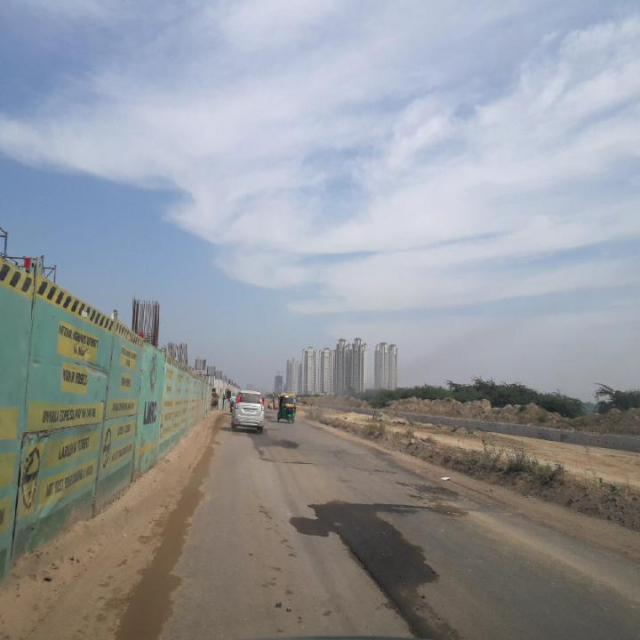D00: (329, 521, 418, 634)
